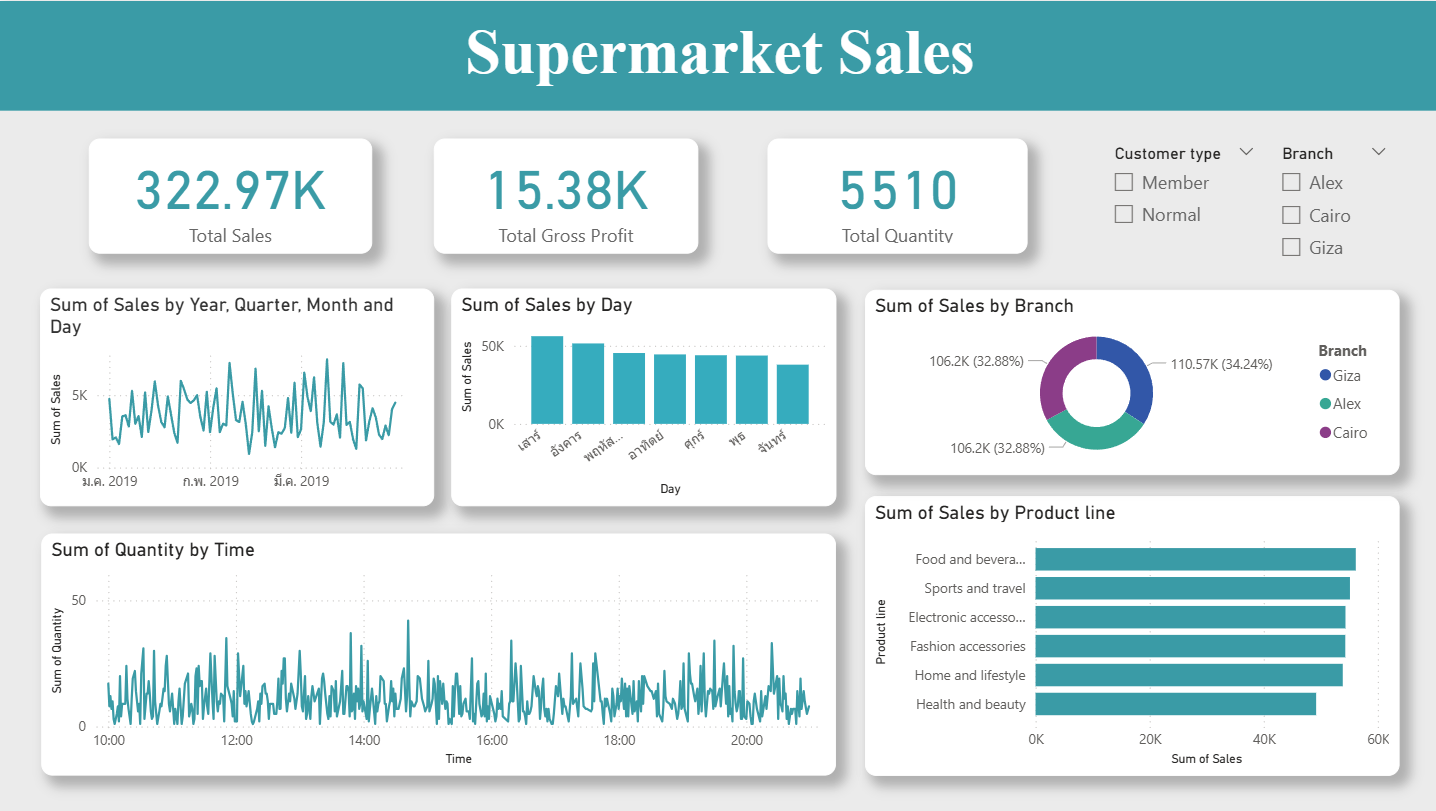

The dashboard page shown, as its layout file describes it:
{"tool":"powerbi","page":{"name":"Report","canvas":[1280,720],"ordinal":3},"visuals":[{"type":"shape","box":[0,0,1280,97.5],"z":0},{"type":"card","fields":{"Values":["Sum(SuperMarket Analysis.Sales)"]},"box":[78.9,122.2,252.2,102.2],"z":1000},{"type":"card","fields":{"Values":["Sum(SuperMarket Analysis.Profit)"]},"box":[385.6,122.2,235.6,102.2],"z":2000},{"type":"card","fields":{"Values":["Sum(SuperMarket Analysis.Quantity)"]},"box":[682.2,122.2,231.1,102.2],"z":3000},{"type":"barChart","fields":{"Category":["SuperMarket Analysis.Product line"],"Y":["Sum(SuperMarket Analysis.Sales)"]},"box":[768.8,440,475,248.8],"z":4000},{"type":"donutChart","fields":{"Category":["SuperMarket Analysis.Branch"],"Y":["Sum(SuperMarket Analysis.Sales)"]},"box":[768.8,256.2,475,165],"z":5000},{"type":"lineChart","fields":{"Y":["Sum(SuperMarket Analysis.Sales)"],"Category":["SuperMarket Analysis.Datetiime.Variation.Date Hierarchy.Year","SuperMarket Analysis.Datetiime.Variation.Date Hierarchy.Quarter","SuperMarket Analysis.Datetiime.Variation.Date Hierarchy.Month","SuperMarket Analysis.Datetiime.Variation.Date Hierarchy.Day"]},"box":[35.6,255.6,350,193.3],"z":6000},{"type":"lineChart","fields":{"Category":["SuperMarket Analysis.Time"],"Y":["Sum(SuperMarket Analysis.Quantity)"]},"box":[36.7,473.3,706.7,215.6],"z":7000},{"type":"slicer","fields":{"Values":["SuperMarket Analysis.Branch"]},"box":[1126.7,122.2,117.8,115.6],"z":8000},{"type":"slicer","fields":{"Values":["SuperMarket Analysis.Customer type"]},"box":[977.8,122.2,148.9,102.2],"z":9000},{"type":"textbox","box":[0,8.8,1280,78.8],"z":10000},{"type":"clusteredColumnChart","fields":{"Category":["Day of 2019.Day"],"Y":["Sum(SuperMarket Analysis.Sales)"]},"box":[401.1,255.6,342.2,193.3],"z":11000}]}

Visuals, with their boxes in screenshot pixels (x1, y1, x2, y2), scaled from the page's 1280x720 canvas onto the 1436x811 screenshot:
shape: select_region(0, 0, 1435, 110)
card - Sum(SuperMarket Analysis.Sales): select_region(89, 138, 371, 253)
card - Sum(SuperMarket Analysis.Profit): select_region(433, 138, 697, 253)
card - Sum(SuperMarket Analysis.Quantity): select_region(765, 138, 1025, 253)
barChart - SuperMarket Analysis.Product line x Sum(SuperMarket Analysis.Sales): select_region(862, 496, 1395, 776)
donutChart - SuperMarket Analysis.Branch x Sum(SuperMarket Analysis.Sales): select_region(862, 289, 1395, 474)
lineChart - Sum(SuperMarket Analysis.Sales) x SuperMarket Analysis.Datetiime.Variation.Date Hierarchy.Year: select_region(40, 288, 433, 506)
lineChart - SuperMarket Analysis.Time x Sum(SuperMarket Analysis.Quantity): select_region(41, 533, 834, 776)
slicer - SuperMarket Analysis.Branch: select_region(1264, 138, 1396, 268)
slicer - SuperMarket Analysis.Customer type: select_region(1097, 138, 1264, 253)
textbox: select_region(0, 10, 1435, 99)
clusteredColumnChart - Day of 2019.Day x Sum(SuperMarket Analysis.Sales): select_region(450, 288, 834, 506)
